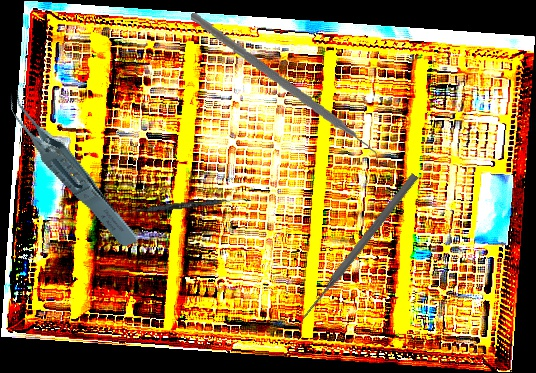Chopper: (179, 12, 389, 173)
Pusher: (298, 171, 420, 323)
Spatula Surgical: (120, 194, 251, 217)
Tissue Forceps: (4, 70, 140, 266)
